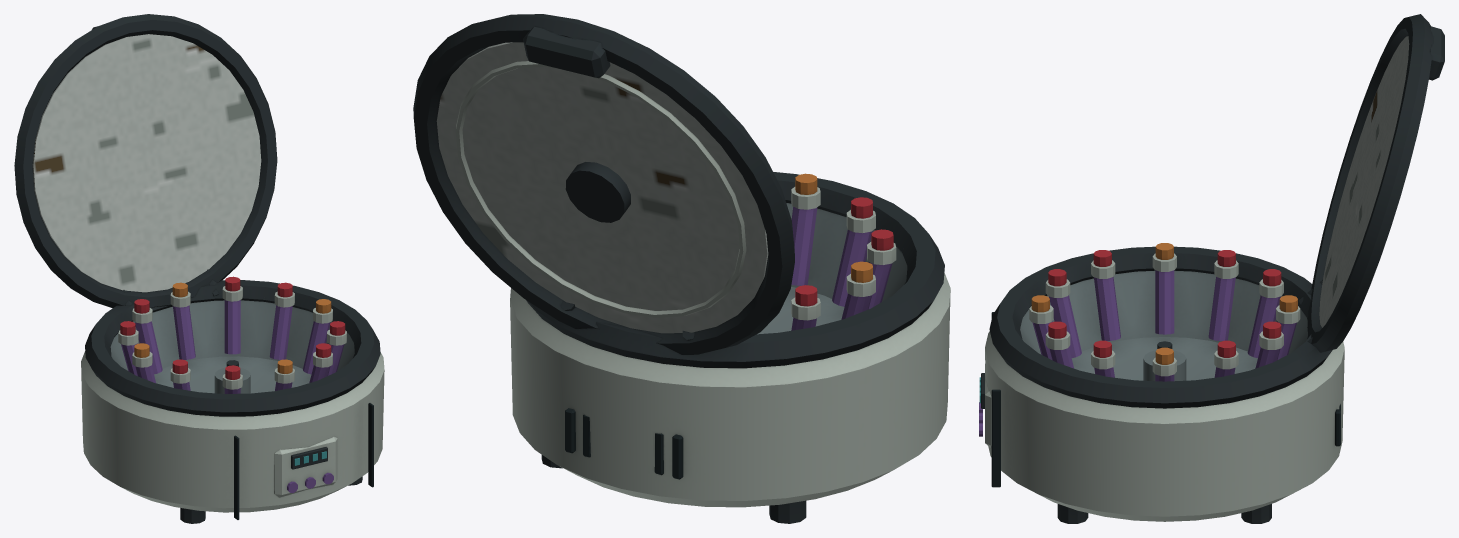
The model's file is centrifuge.obj.
The picture shows the model from 3 angles, left to right: view 1: azimuth 30°, elevation 25°; view 2: azimuth 150°, elevation 25°; view 3: azimuth 270°, elevation 25°; orthographic projection. The views are drawn at different scales.
Parts seen in each view (by area): view 1: centrifuge_static_0, centrifuge_static_1; view 2: centrifuge_static_0, centrifuge_static_1; view 3: centrifuge_static_0, centrifuge_static_1.
Boxes of the visible parts, x1,y1,x2,y2 form: centrifuge_static_0: (14,14,384,523); centrifuge_static_1: (32,34,261,292); centrifuge_static_0: (413,14,950,523); centrifuge_static_1: (436,42,768,333); centrifuge_static_0: (979,14,1444,523); centrifuge_static_1: (1319,36,1409,327).
Bounding box in the file's own units: 0.47 × 0.6362 × 0.6082.
2 materials, 2 textured.
